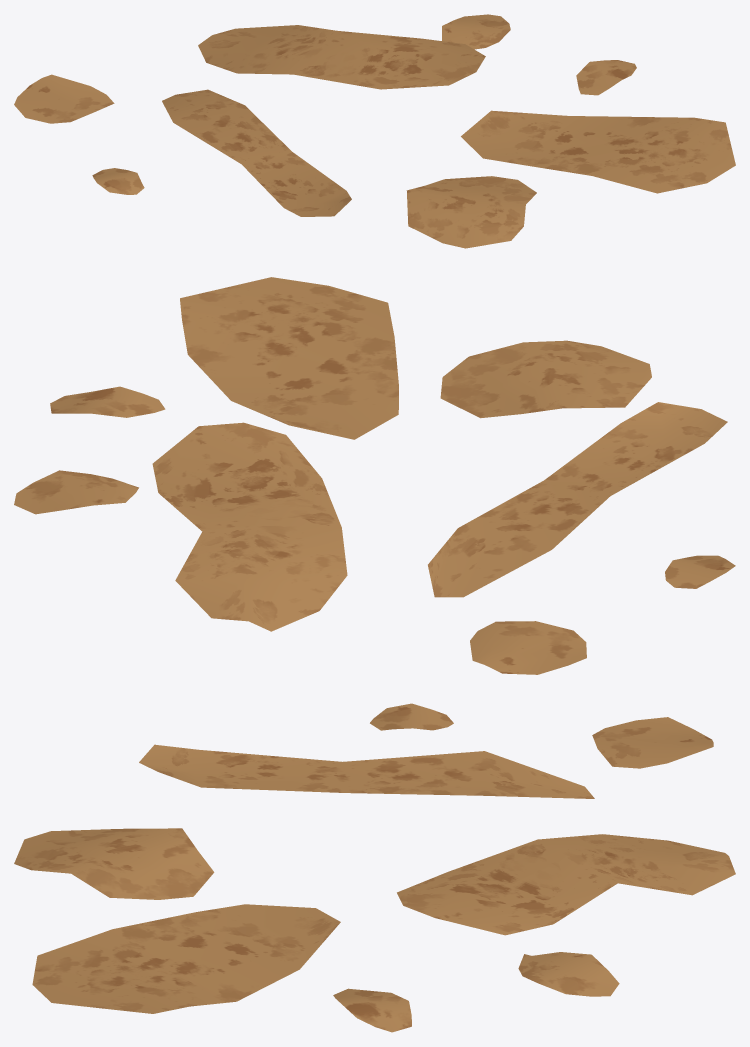
The model's file is detritus00.fbx.
3 renders of one model, top to bottom at view 1: azimuth 30°, elevation 25°; view 2: azimuth 150°, elevation 25°; view 3: azimuth 270°, elevation 25°, orthographic. The views are drawn at different scales.
Visible parts, largest first — view 1: detritus_final; view 2: detritus_final; view 3: detritus_final.
Part boxes in pixels (x1,y1,x2,y2): detritus_final: [14, 14, 735, 248]; detritus_final: [14, 277, 735, 674]; detritus_final: [14, 703, 735, 1032].
Size of the model in its own units: 87.65 by 5.04 by 82.63.
Materials: 1 (1 with a texture image).
